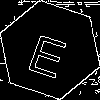E: (25, 25, 73, 79)
